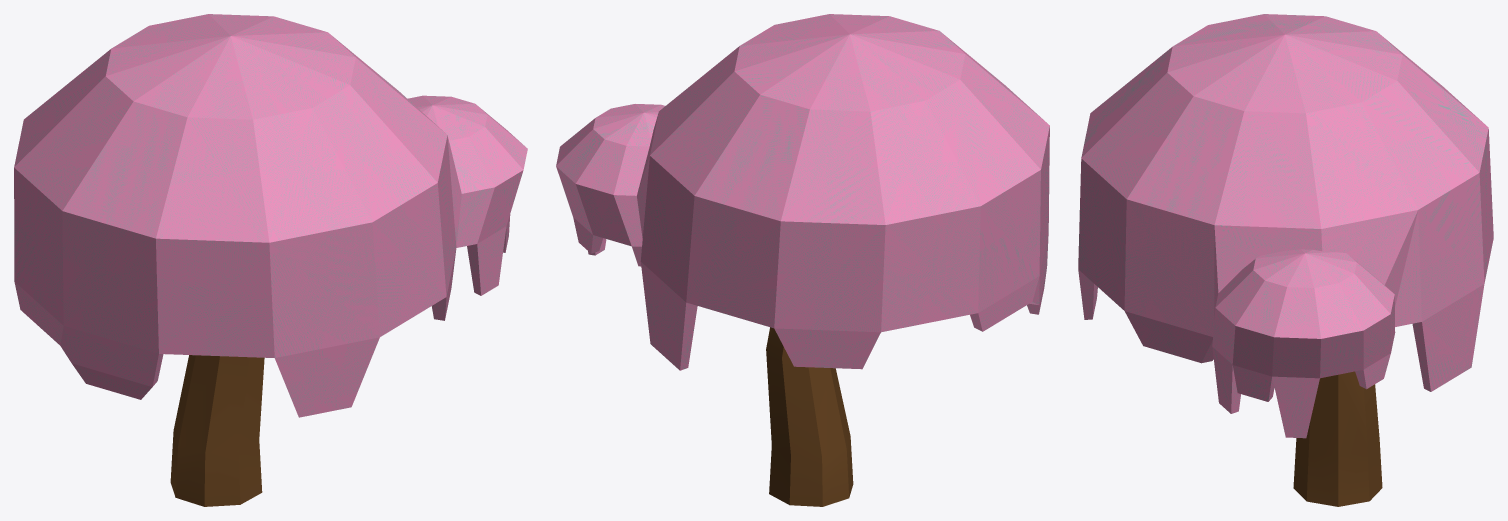
File: Tree_Asia_Blossom_01.fbx
3 views of the same model, side by side, from view 1: azimuth 30°, elevation 25°; view 2: azimuth 150°, elevation 25°; view 3: azimuth 270°, elevation 25° (orthographic). The views are drawn at different scales.
Visible parts, largest first — view 1: Model; view 2: Model; view 3: Model.
Boxes of the visible parts, box(x1,y1,x2,y2) form: Model: box(14, 14, 527, 506); Model: box(556, 14, 1049, 506); Model: box(1078, 14, 1493, 506).
Bounding box in the file's own units: 614 × 578 × 487.
